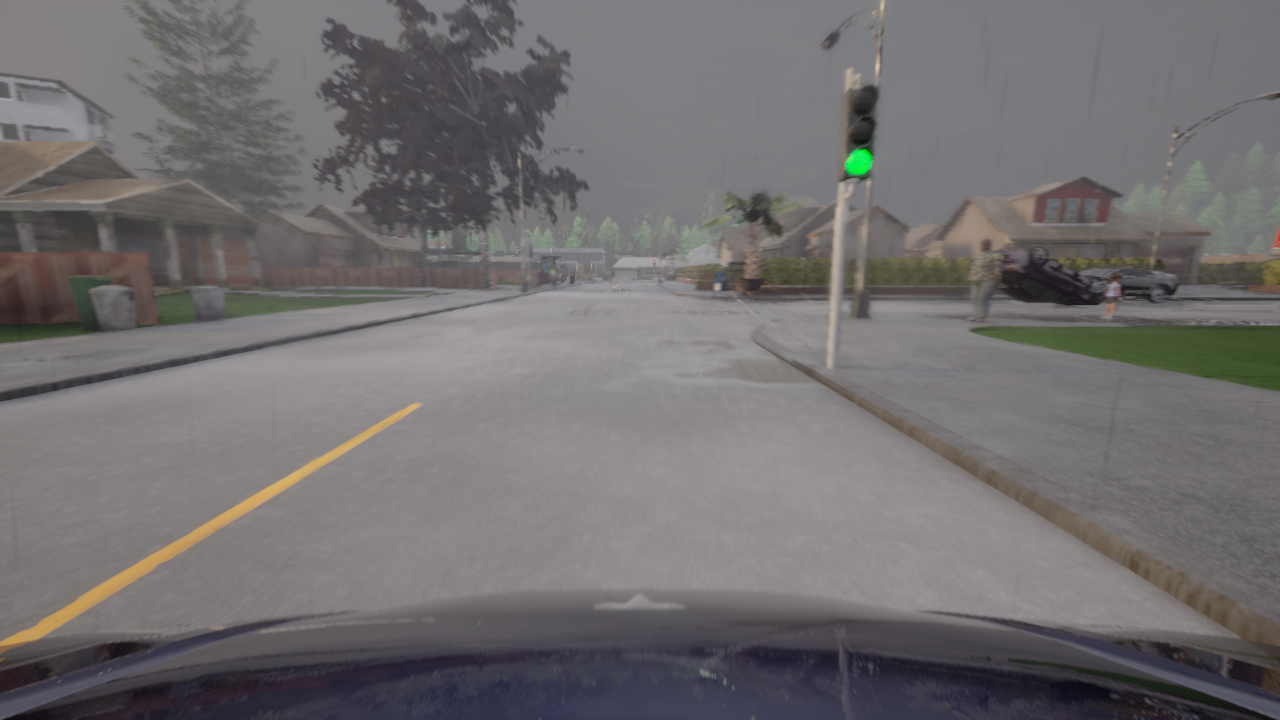cyclist: (0, 588, 1279, 719), (995, 246, 1109, 305), (1078, 266, 1177, 302), (1269, 225, 1279, 257)
pedestrian: (967, 239, 1001, 322), (1102, 274, 1121, 320), (549, 263, 557, 287), (554, 264, 558, 287), (537, 272, 542, 287), (525, 264, 527, 280)
